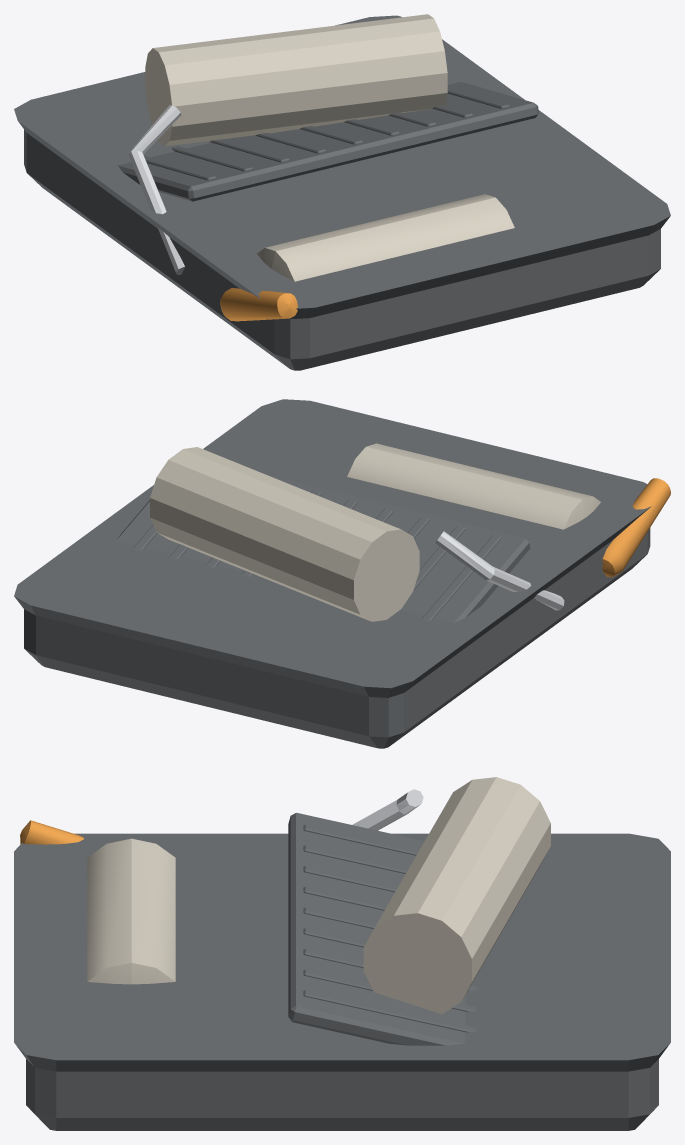
The picture shows the model from 3 angles, top to bottom: view 1: azimuth 30°, elevation 25°; view 2: azimuth 150°, elevation 25°; view 3: azimuth 270°, elevation 25°; orthographic projection. The views are drawn at different scales.
Visible parts, largest first — view 1: paint-roller-and-tray; view 2: paint-roller-and-tray; view 3: paint-roller-and-tray.
Part boxes in pixels (bbox=[...]): paint-roller-and-tray: bbox=[14, 14, 670, 370]; paint-roller-and-tray: bbox=[14, 399, 670, 748]; paint-roller-and-tray: bbox=[14, 777, 670, 1130].
Bounding box in the file's own units: 0.36 × 0.138 × 0.436.
